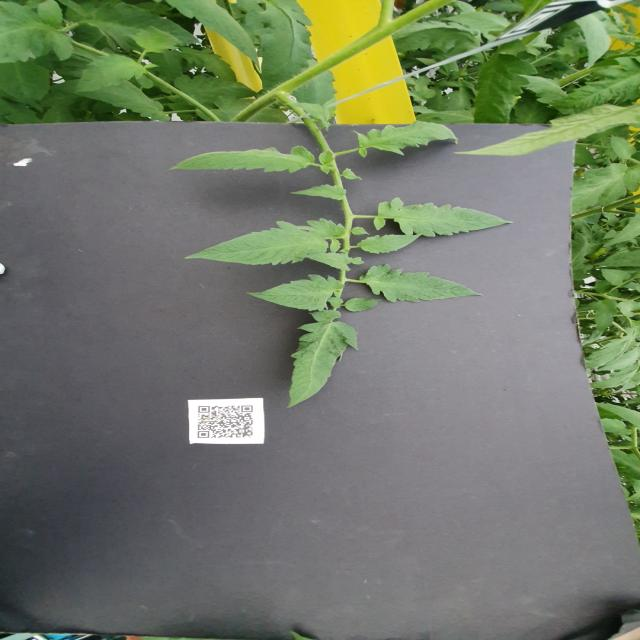Healthy Leaf: (454, 102, 640, 156), (176, 218, 344, 266), (287, 309, 360, 408), (162, 0, 259, 70), (374, 197, 514, 238), (547, 56, 640, 115), (258, 0, 314, 94), (360, 264, 483, 303), (473, 53, 538, 123), (168, 145, 316, 174), (350, 120, 460, 158), (247, 273, 344, 312), (570, 162, 640, 212), (74, 54, 148, 95), (173, 73, 258, 104), (439, 12, 512, 31), (357, 233, 423, 254), (292, 252, 353, 271), (289, 183, 347, 200), (590, 298, 617, 332), (608, 134, 638, 162), (346, 297, 382, 312), (600, 268, 630, 286)
